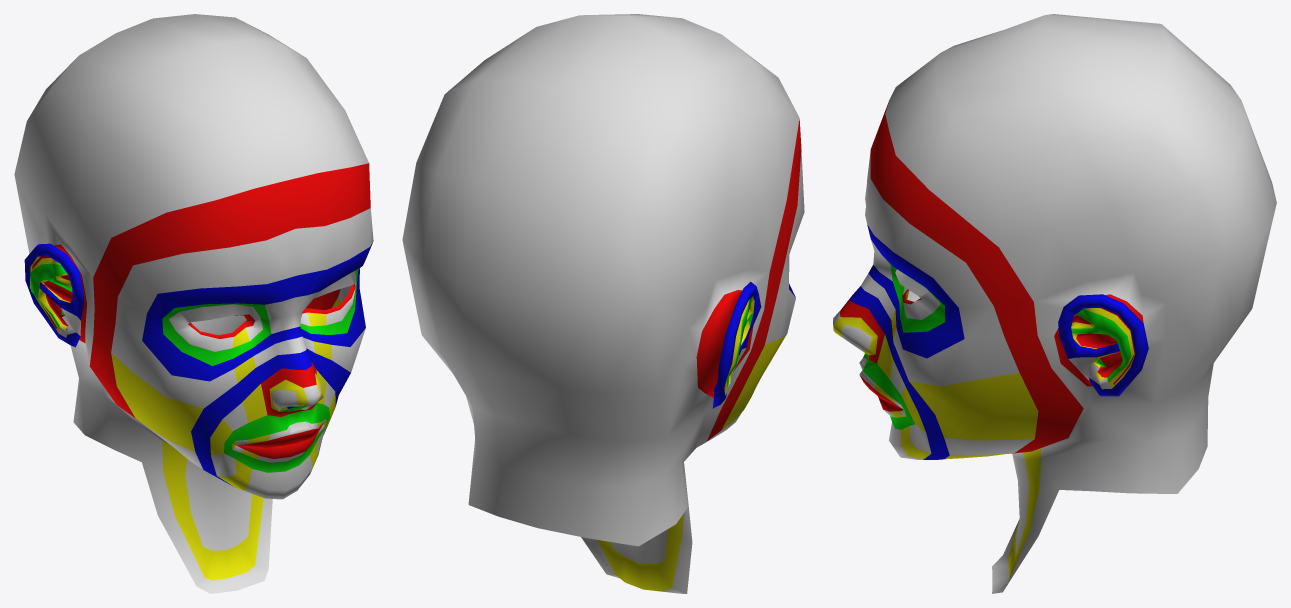
Rendered from Head-topo.fbx.
3 views of the same model, side by side, from view 1: azimuth 30°, elevation 25°; view 2: azimuth 150°, elevation 25°; view 3: azimuth 270°, elevation 25° (orthographic). The views are drawn at different scales.
Parts seen in each view (by area): view 1: Eve; view 2: Eve; view 3: Eve.
Part boxes in pixels (x1,y1,x2,y2): Eve: (14,14,373,593); Eve: (402,14,804,593); Eve: (833,14,1276,593).
Bounding box in the file's own units: 22.69 × 40.13 × 29.05.
